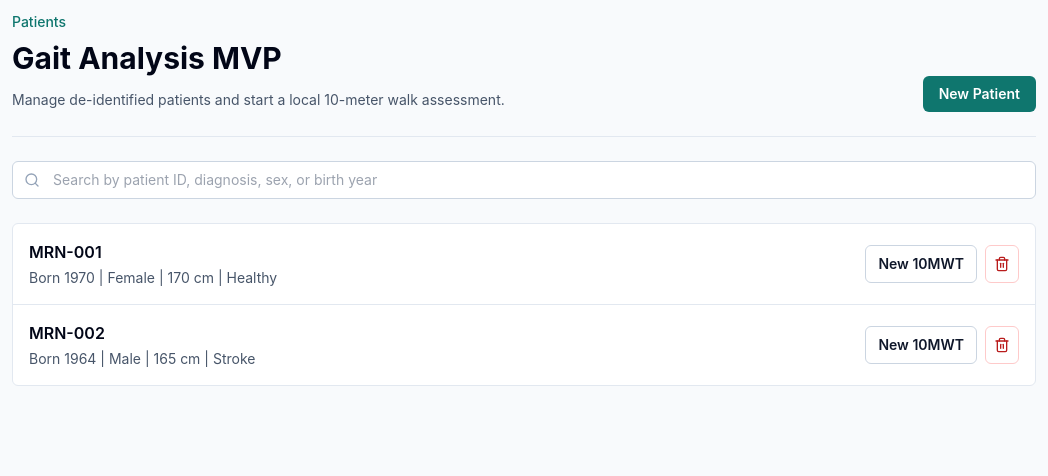
Test: HomePage › loads assessment history when a patient is selected
The width and height of the screenshot is (1048, 476).
Click the text "MRN-001": (65, 252) [29,242,102,262]
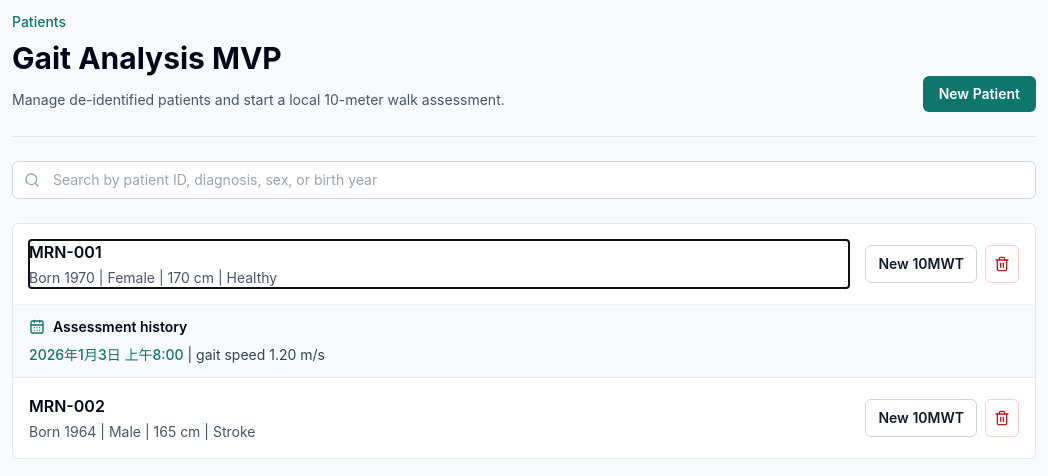
Check: the heading "Assessment history" is shown, box [29,318,187,335]
Check: the list item "gait speed 1.20 m/s" is shown, box [29,346,325,363]
